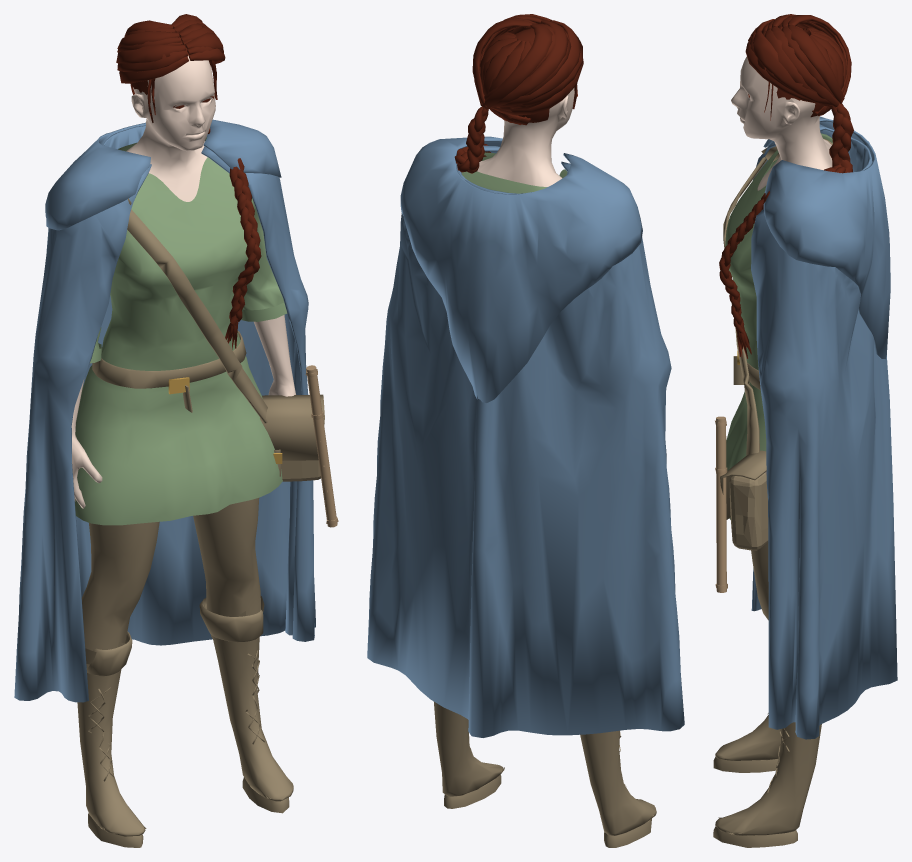
Rendered from elara_cf1_proxy.glb.
3 renders of one model, left to right at view 1: azimuth 30°, elevation 25°; view 2: azimuth 150°, elevation 25°; view 3: azimuth 270°, elevation 25°, orthographic. The views are drawn at different scales.
Visible parts, largest first — view 1: Elara_Proxy; view 2: Elara_Proxy; view 3: Elara_Proxy.
Part boxes in pixels (box(x1,y1,x2,y2)): Elara_Proxy: box(14, 14, 338, 847); Elara_Proxy: box(367, 14, 684, 847); Elara_Proxy: box(713, 14, 897, 847).
Size of the model in its own units: 0.7157 by 1.77 by 0.3783.
